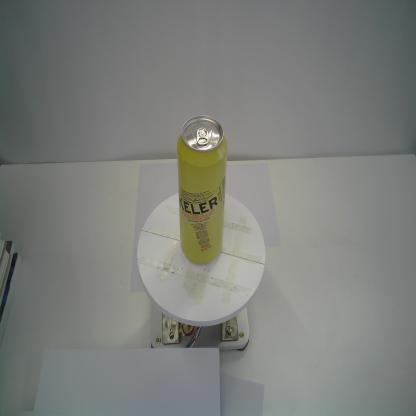Alcohol: (176, 116, 228, 268)
